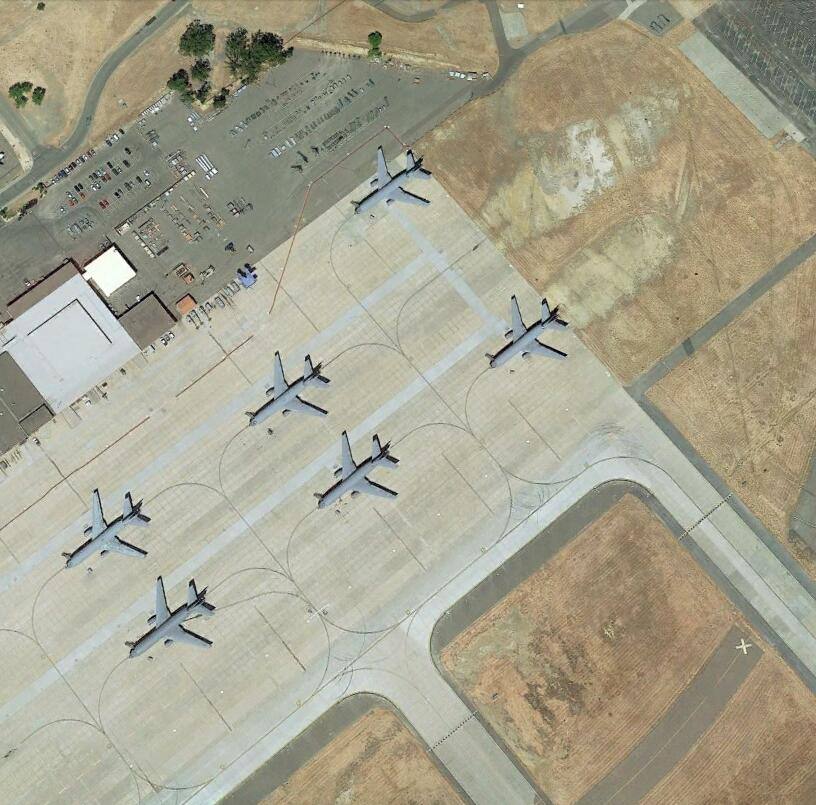A18: (128, 578, 217, 661), (63, 491, 151, 574), (316, 430, 402, 510), (247, 351, 330, 429), (487, 295, 571, 371), (348, 149, 437, 217)
